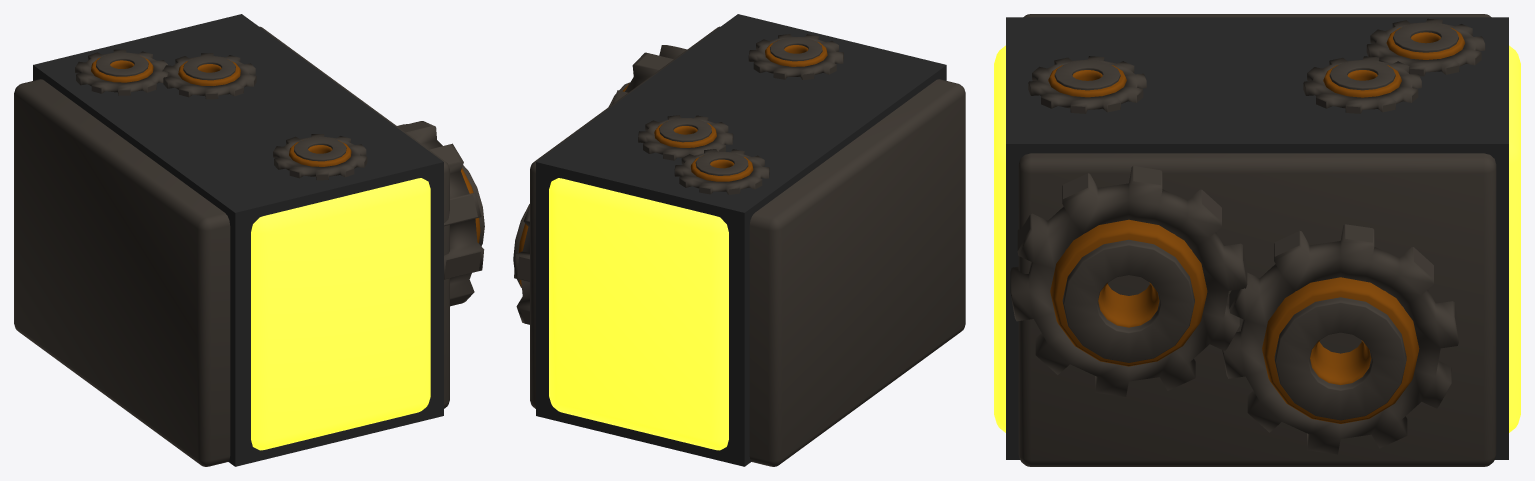
File: Батарея(или типо того).fbx
3 renders of one model, left to right at view 1: azimuth 30°, elevation 25°; view 2: azimuth 150°, elevation 25°; view 3: azimuth 270°, elevation 25°, orthographic. The views are drawn at different scales.
Visible parts, largest first — view 1: Cube_3, Cube_1, Cube_2, Шестеренушка, Шестеренушка_4, Шестеренушка_3, Шестеренушка_2; view 2: Cube_3, Cube_1, Cube_2, Шестеренушка_2, Шестеренушка_4, Шестеренушка_3, Шестеренушка_1, Шестеренушка; view 3: Cube_3, Cube_1, Шестеренушка, Шестеренушка_1, Cube_2, Шестеренушка_4, Шестеренушка_3, Шестеренушка_2.
Part boxes in pixels (x1=…): Cube_3: x1=14, y1=26, x2=449, y2=466; Cube_1: x1=33, y1=14, x2=443, y2=466; Cube_2: x1=251, y1=178, x2=430, y2=450; Шестеренушка: x1=397, y1=121, x2=484, y2=306; Шестеренушка_4: x1=273, y1=134, x2=367, y2=180; Шестеренушка_3: x1=162, y1=53, x2=256, y2=99; Шестеренушка_2: x1=75, y1=49, x2=169, y2=95; Cube_3: x1=530, y1=26, x2=965, y2=466; Cube_1: x1=536, y1=14, x2=946, y2=466; Cube_2: x1=549, y1=178, x2=728, y2=450; Шестеренушка_2: x1=674, y1=149, x2=769, y2=194; Шестеренушка_4: x1=748, y1=34, x2=843, y2=79; Шестеренушка_3: x1=638, y1=115, x2=733, y2=160; Шестеренушка_1: x1=513, y1=204, x2=529, y2=324; Шестеренушка: x1=608, y1=45, x2=686, y2=106; Cube_3: x1=1018, y1=14, x2=1496, y2=466; Cube_1: x1=1006, y1=17, x2=1508, y2=459; Шестеренушка: x1=1010, y1=165, x2=1247, y2=396; Шестеренушка_1: x1=1222, y1=224, x2=1458, y2=454; Cube_2: x1=994, y1=45, x2=1520, y2=432; Шестеренушка_4: x1=1028, y1=56, x2=1146, y2=113; Шестеренушка_3: x1=1303, y1=56, x2=1421, y2=113; Шестеренушка_2: x1=1366, y1=18, x2=1485, y2=76.
Bounding box in the file's own units: 53.96 × 45.93 × 65.85.
